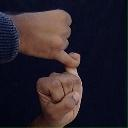hand: (0, 9, 81, 67), (34, 53, 84, 128)
